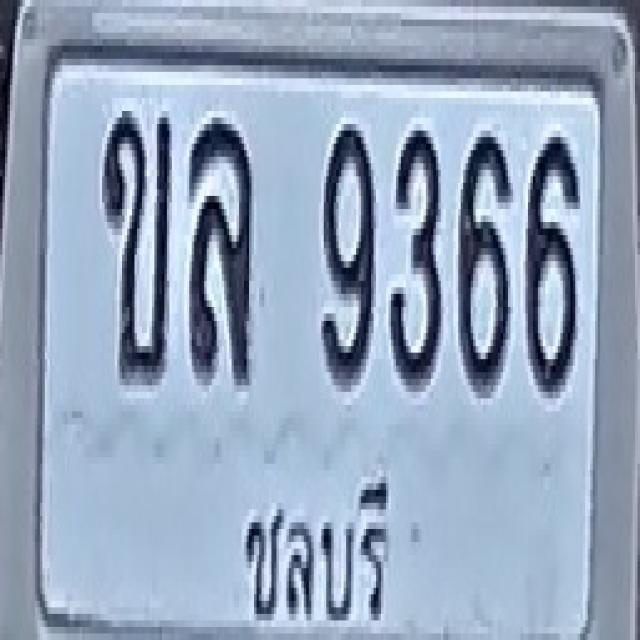-: (102, 108, 172, 382), (188, 114, 253, 382)
3: (388, 124, 441, 392)
6: (458, 130, 511, 392), (525, 130, 578, 392)
9: (321, 120, 374, 388)
CBI: (232, 452, 401, 640)
